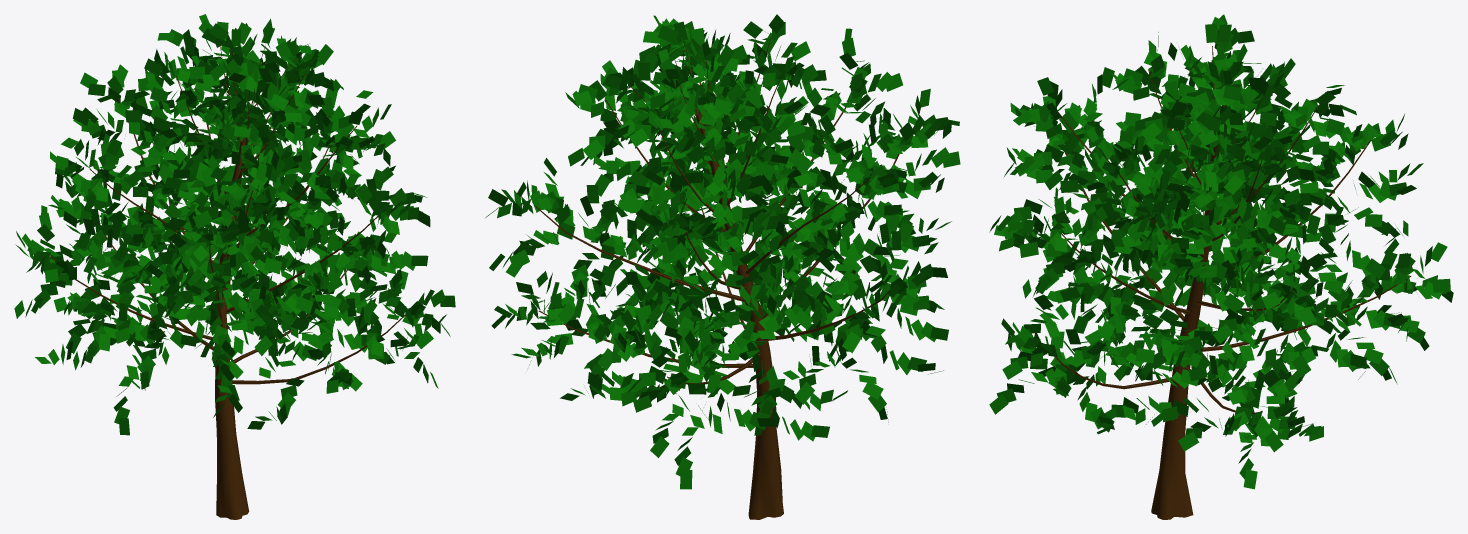
File: Baum 9.FBX
The picture shows the model from 3 angles, left to right: view 1: azimuth 30°, elevation 25°; view 2: azimuth 150°, elevation 25°; view 3: azimuth 270°, elevation 25°; orthographic projection. The views are drawn at different scales.
Visible parts, largest first — view 1: Foliage015; view 2: Foliage015; view 3: Foliage015.
Boxes of the visible parts, left/top/right/bottom form: Foliage015: left=14, top=14, right=455, bottom=519; Foliage015: left=485, top=14, right=960, bottom=519; Foliage015: left=989, top=14, right=1453, bottom=519.
Size of the model in its own units: 1161 by 1289 by 1128.
